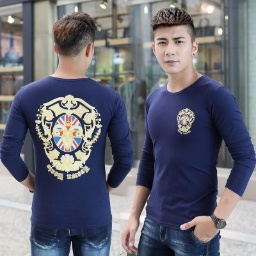face: (150, 8, 198, 74)
